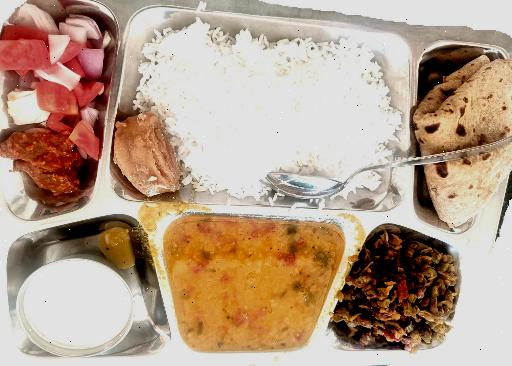Curd: (1, 257, 139, 360)
Dal: (175, 222, 326, 346)
Pickle: (0, 137, 79, 211)
Rice: (140, 29, 394, 192)
Roti: (422, 50, 512, 227)
Salad: (3, 0, 104, 134)
Sweet: (114, 110, 186, 194)
Vegetable: (342, 234, 462, 348)
